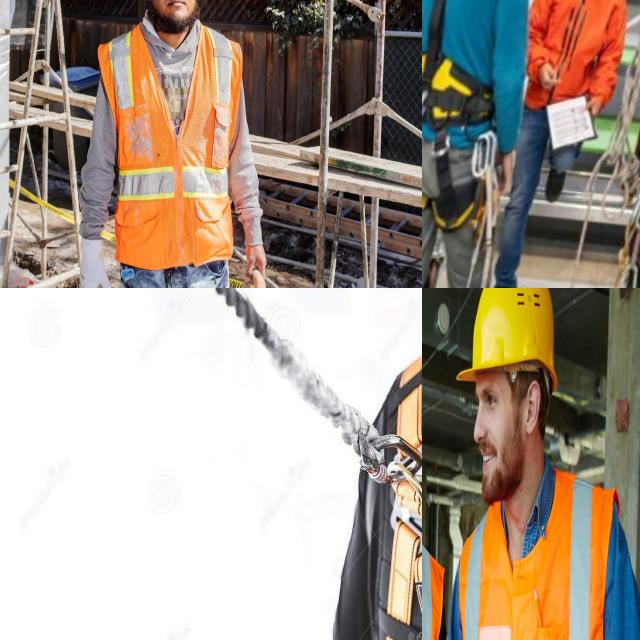Harness: (422, 0, 494, 232), (387, 466, 422, 626)
No_Ear-Protection: (521, 373, 544, 441)
face_nomask: (467, 368, 529, 508), (144, 0, 201, 24)
hand_glove: (66, 221, 116, 288)
hand_noglove: (246, 229, 280, 288)
head_helmet: (456, 288, 565, 399)
person: (454, 288, 640, 640), (87, 0, 269, 288), (472, 374, 507, 426)
vest: (109, 17, 234, 264), (457, 478, 624, 640)
